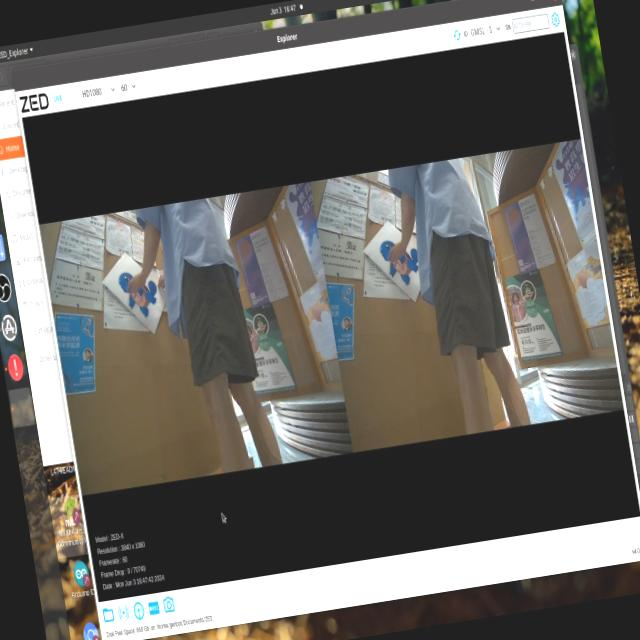blue: (372, 223, 438, 297), (109, 262, 172, 332)
